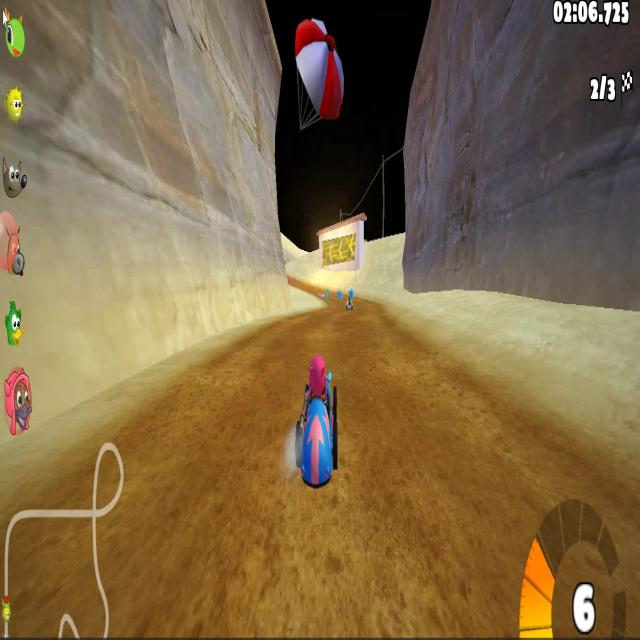player_kart: (296, 350, 342, 508)
track: (297, 508, 638, 640), (128, 401, 296, 640), (343, 357, 465, 507), (8, 493, 127, 633), (468, 386, 543, 508), (545, 424, 619, 505), (219, 354, 296, 401), (319, 302, 380, 352), (71, 444, 127, 493), (380, 312, 429, 355), (274, 319, 319, 342), (304, 273, 322, 301), (290, 270, 302, 292)
